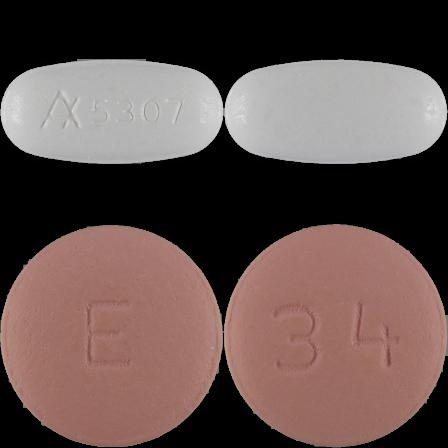61919-003: (0, 0, 224, 224)
